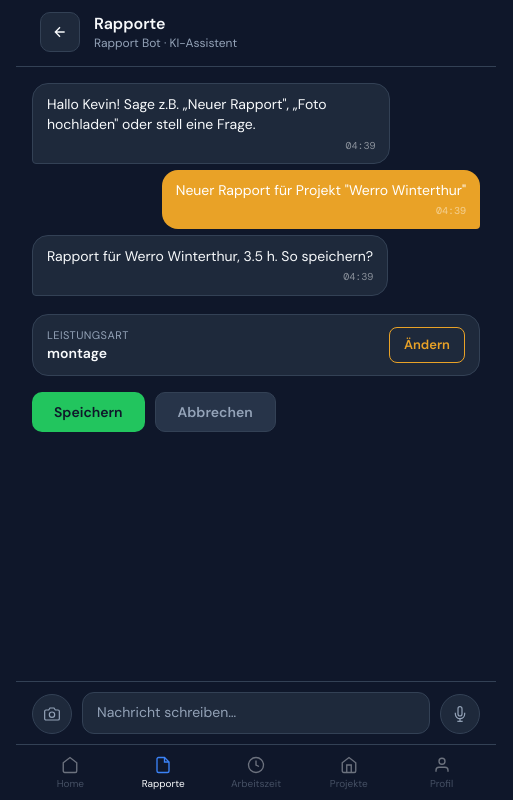
Test case: ChatScreen — Speichern schlägt fehl › bringt den «Speichern»-Knopf zurück, wenn der Server den Rapport behalten hat
The image size is (513, 800).
Click the button "Speichern". click: (88, 412)
box: [32,392,145,432]
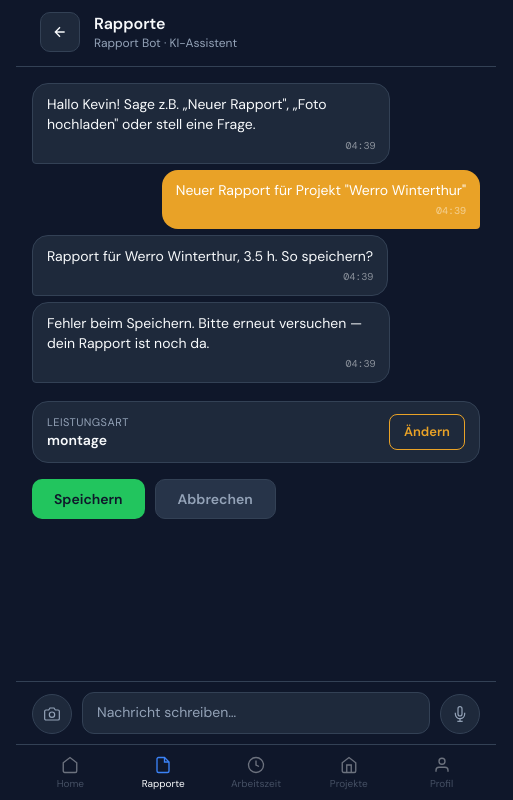
Expected: the button "Speichern" is shown, [32,479,145,519]
Expected: the text "dein Rapport ist noch da" is shown, [47,314,362,352]
